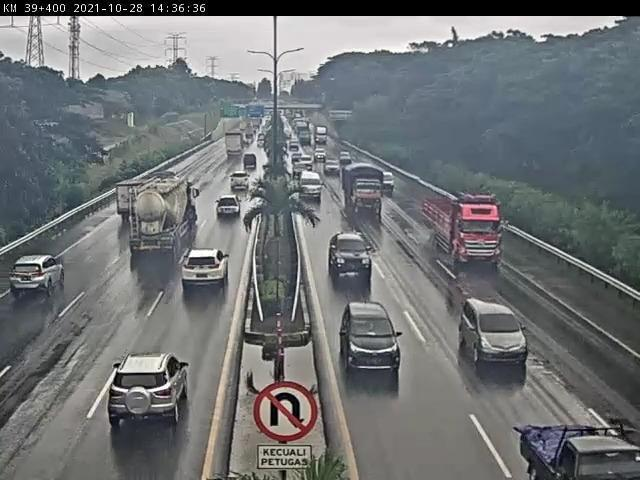car: (517, 408, 640, 479), (455, 292, 536, 378), (97, 359, 186, 429), (350, 305, 409, 385), (324, 226, 383, 285), (18, 254, 68, 302), (184, 241, 230, 290), (299, 176, 324, 206), (218, 196, 245, 218), (234, 167, 257, 191), (324, 160, 342, 179), (383, 169, 396, 195)
truck: (424, 186, 506, 273), (146, 180, 192, 251), (342, 174, 392, 217), (113, 182, 141, 221)
